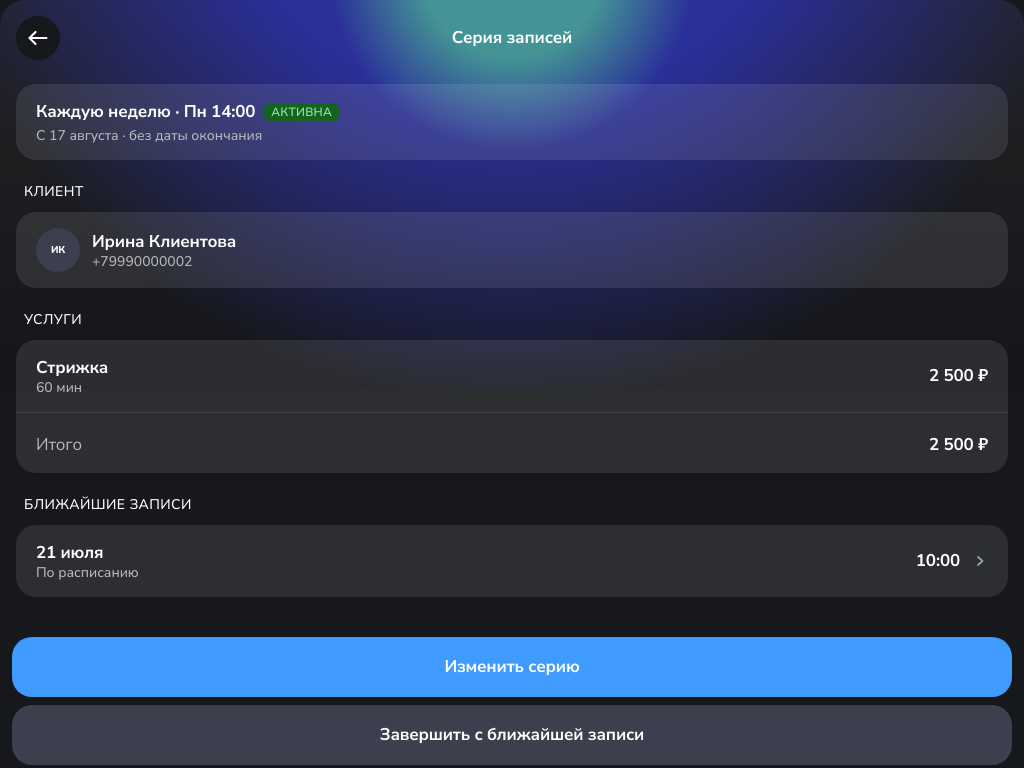
Test case: BookingSeriesDetailPage cancellation flow › при version conflict cancel перечитывает серию и заново делает preview перед retry
Click the button "Завершить с ближайшей записи" at (512, 735), box [12,705,1012,765]
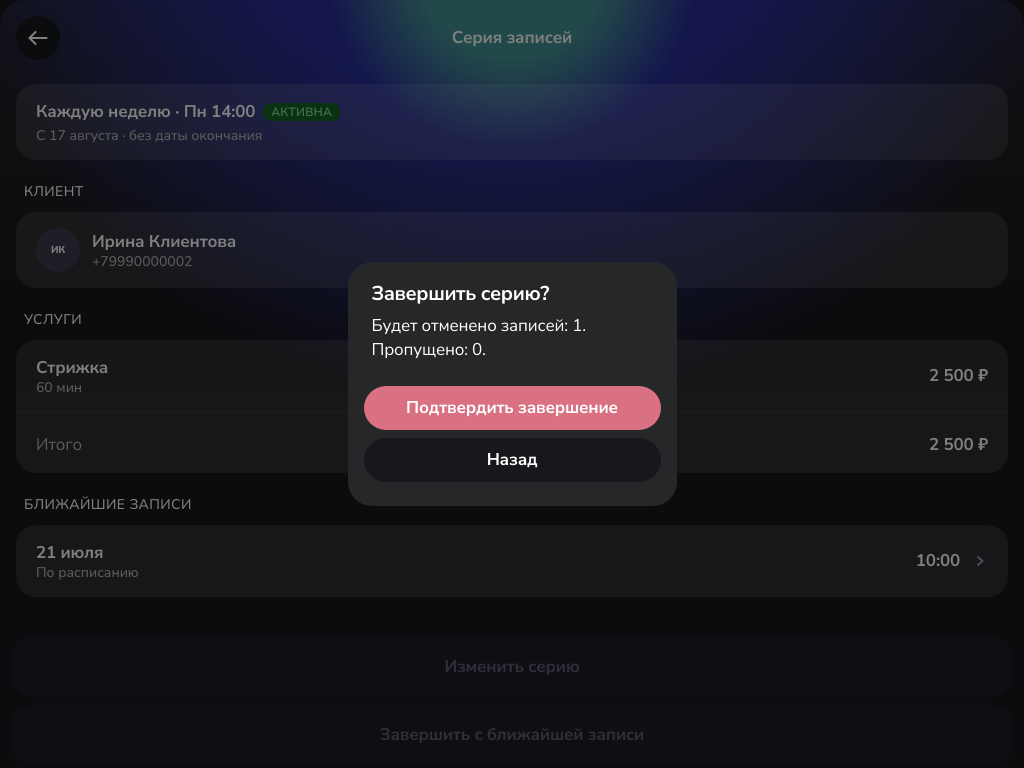
Click the button "Подтвердить завершение" at (512, 408), box [364,386,660,430]
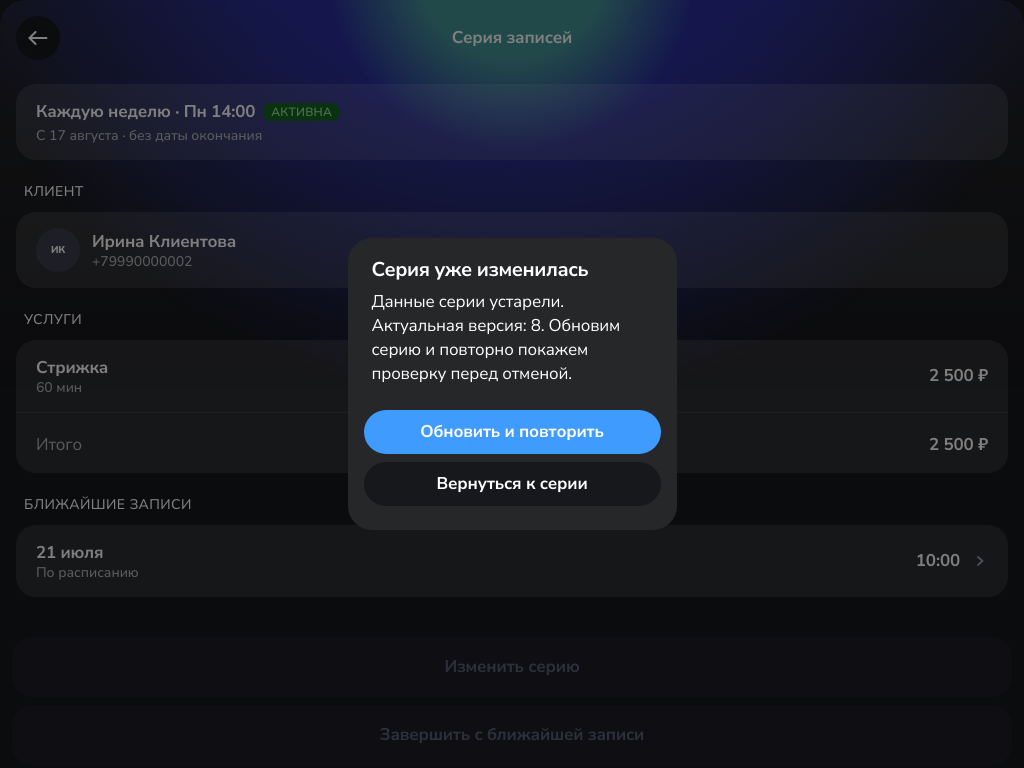
expect the text "Серия уже изменилась" is shown: met, box [372,256,588,283]
expect the text "Актуальная версия: 8" is shown: met, box [372,290,620,385]
Click the button "Обновить и повторить" at (512, 432), box [364,410,660,454]
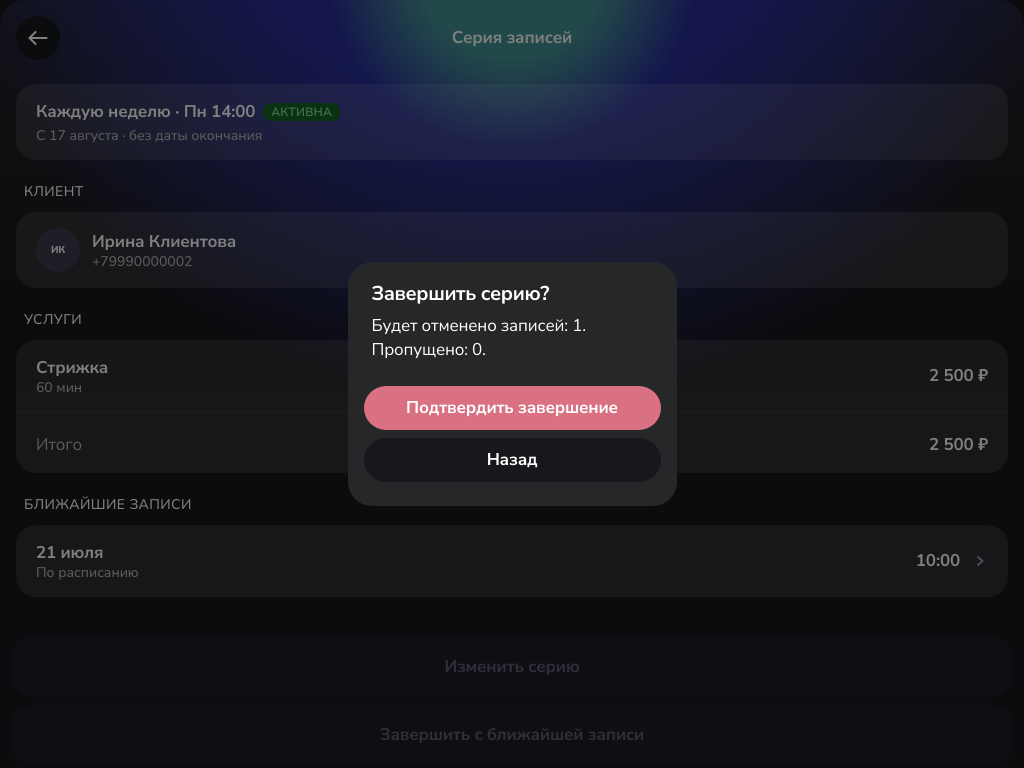
Click the button "Подтвердить завершение" at (512, 408), box [364,386,660,430]
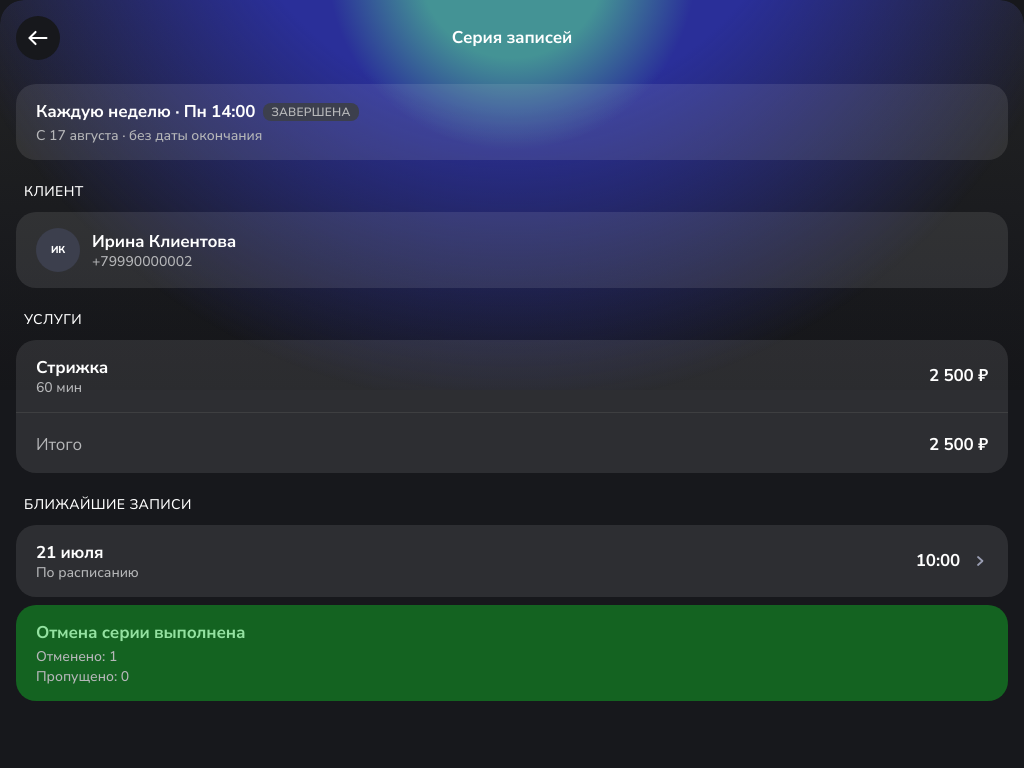
expect the text "Отмена серии выполнена" is shown: met, box [36,621,245,644]
